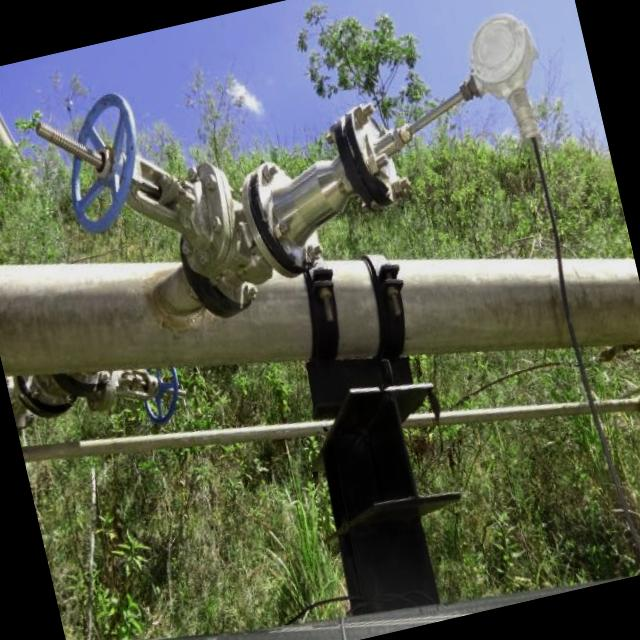gas: (0, 259, 640, 370)
